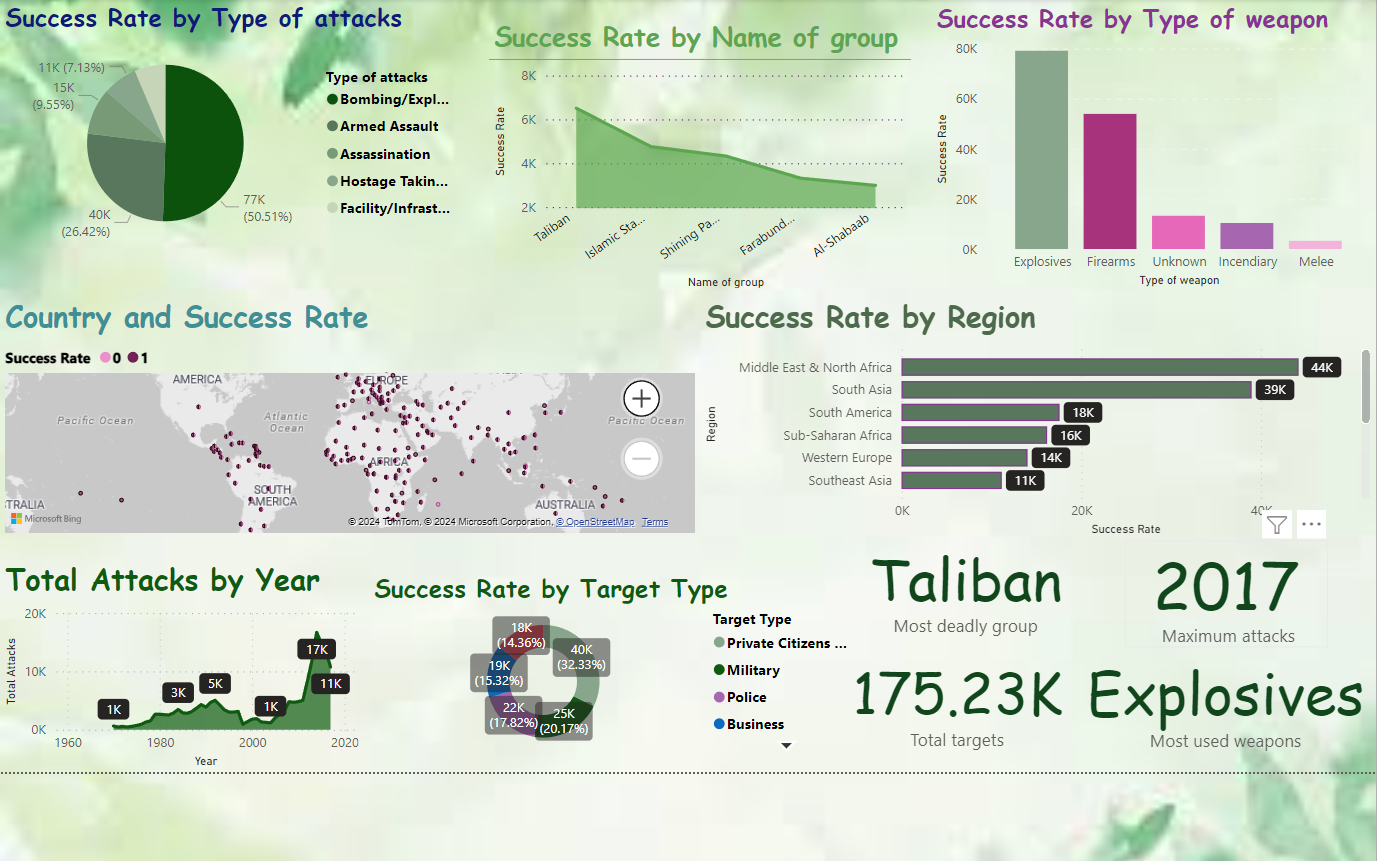

The dashboard page shown, as its layout file describes it:
{"tool":"powerbi","page":{"name":"Page 1","canvas":[1280,720],"ordinal":0},"visuals":[{"type":"pieChart","fields":{"Category":["Global terrorism final data set.Type of attacks"],"Y":["Sum(Global terrorism final data set.Success Rate)"]},"box":[0,0,437.1,237.1],"z":0},{"type":"donutChart","fields":{"Category":["Global terrorism final data set.Target Type"],"Y":["Sum(Global terrorism final data set.Success Rate)"]},"box":[342.9,531.4,460,175.7],"z":1000},{"type":"lineStackedColumnComboChart","fields":{"Category":["Global terrorism final data set.Type of weapon"],"Y":["Sum(Global terrorism final data set.Success Rate)"]},"box":[865.7,1.4,414.3,271.4],"z":2000},{"type":"map","fields":{"Category":["Global terrorism final data set.Country"],"Series":["Global terrorism final data set.Success Rate"]},"box":[0,275.8,651.6,227.1],"z":3000},{"type":"barChart","fields":{"Category":["Global terrorism final data set.Region"],"Y":["Sum(Global terrorism final data set.Success Rate)"]},"box":[651.4,275.7,628.6,228.6],"z":4000},{"type":"areaChart","fields":{"Category":["Global terrorism final data set.Name of group"],"Y":["Sum(Global terrorism final data set.Success Rate)"]},"box":[454.3,17.1,392.9,255.7],"z":5000},{"type":"areaChart","fields":{"Category":["Global terrorism final data set.Year"],"Y":["CountNonNull(Global terrorism final data set.Year)"]},"box":[0,520,338.6,200],"z":6000},{"type":"card","fields":{"Values":["Min(Global terrorism final data set.Name of group)"]},"box":[803.3,493.3,190,110],"z":8000},{"type":"card","fields":{"Values":["CountNonNull(Global terrorism final data set.Target Type)"]},"box":[786.7,601.7,206.7,106.7],"z":9000},{"type":"card","fields":{"Values":["Max(Global terrorism final data set.Year)"]},"box":[1046.7,503.3,188.3,100],"z":10000},{"type":"card","fields":{"Values":["Min(Global terrorism final data set.Type of weapon)"]},"box":[1001.7,588.3,278.3,131.7],"z":11000}]}

Visuals, with their boxes on the page's 1280x720 design canvas (x1, y1, x2, y2). These are canvas units, not pixel positions in the 1377x861 screenshot, which may show the page scaled, cropped or inside an application window:
pieChart - Global terrorism final data set.Type of attacks x Sum(Global terrorism final data set.Success Rate): (0,0,437,237)
donutChart - Global terrorism final data set.Target Type x Sum(Global terrorism final data set.Success Rate): (343,531,803,707)
lineStackedColumnComboChart - Global terrorism final data set.Type of weapon x Sum(Global terrorism final data set.Success Rate): (866,1,1280,273)
map - Global terrorism final data set.Country x Global terrorism final data set.Success Rate: (0,276,652,503)
barChart - Global terrorism final data set.Region x Sum(Global terrorism final data set.Success Rate): (651,276,1280,504)
areaChart - Global terrorism final data set.Name of group x Sum(Global terrorism final data set.Success Rate): (454,17,847,273)
areaChart - Global terrorism final data set.Year x CountNonNull(Global terrorism final data set.Year): (0,520,339,720)
card - Min(Global terrorism final data set.Name of group): (803,493,993,603)
card - CountNonNull(Global terrorism final data set.Target Type): (787,602,993,708)
card - Max(Global terrorism final data set.Year): (1047,503,1235,603)
card - Min(Global terrorism final data set.Type of weapon): (1002,588,1280,720)
